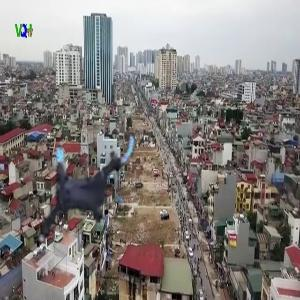drone: (23, 117, 151, 245)
